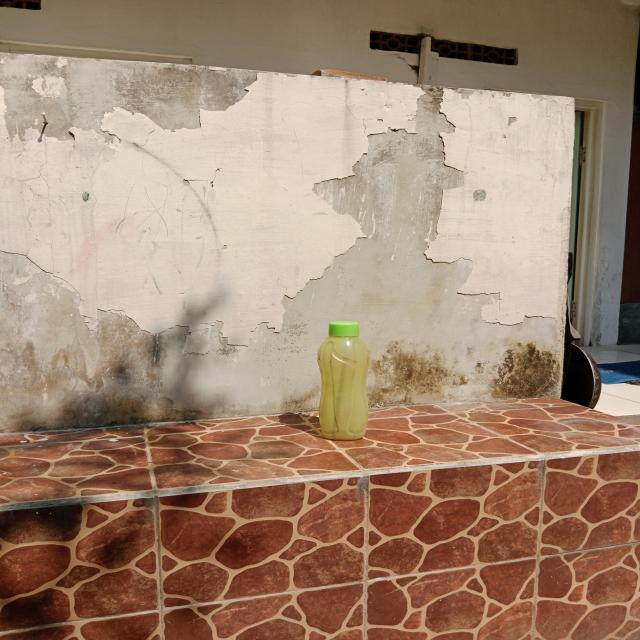botol_minum: (303, 310, 393, 455)
